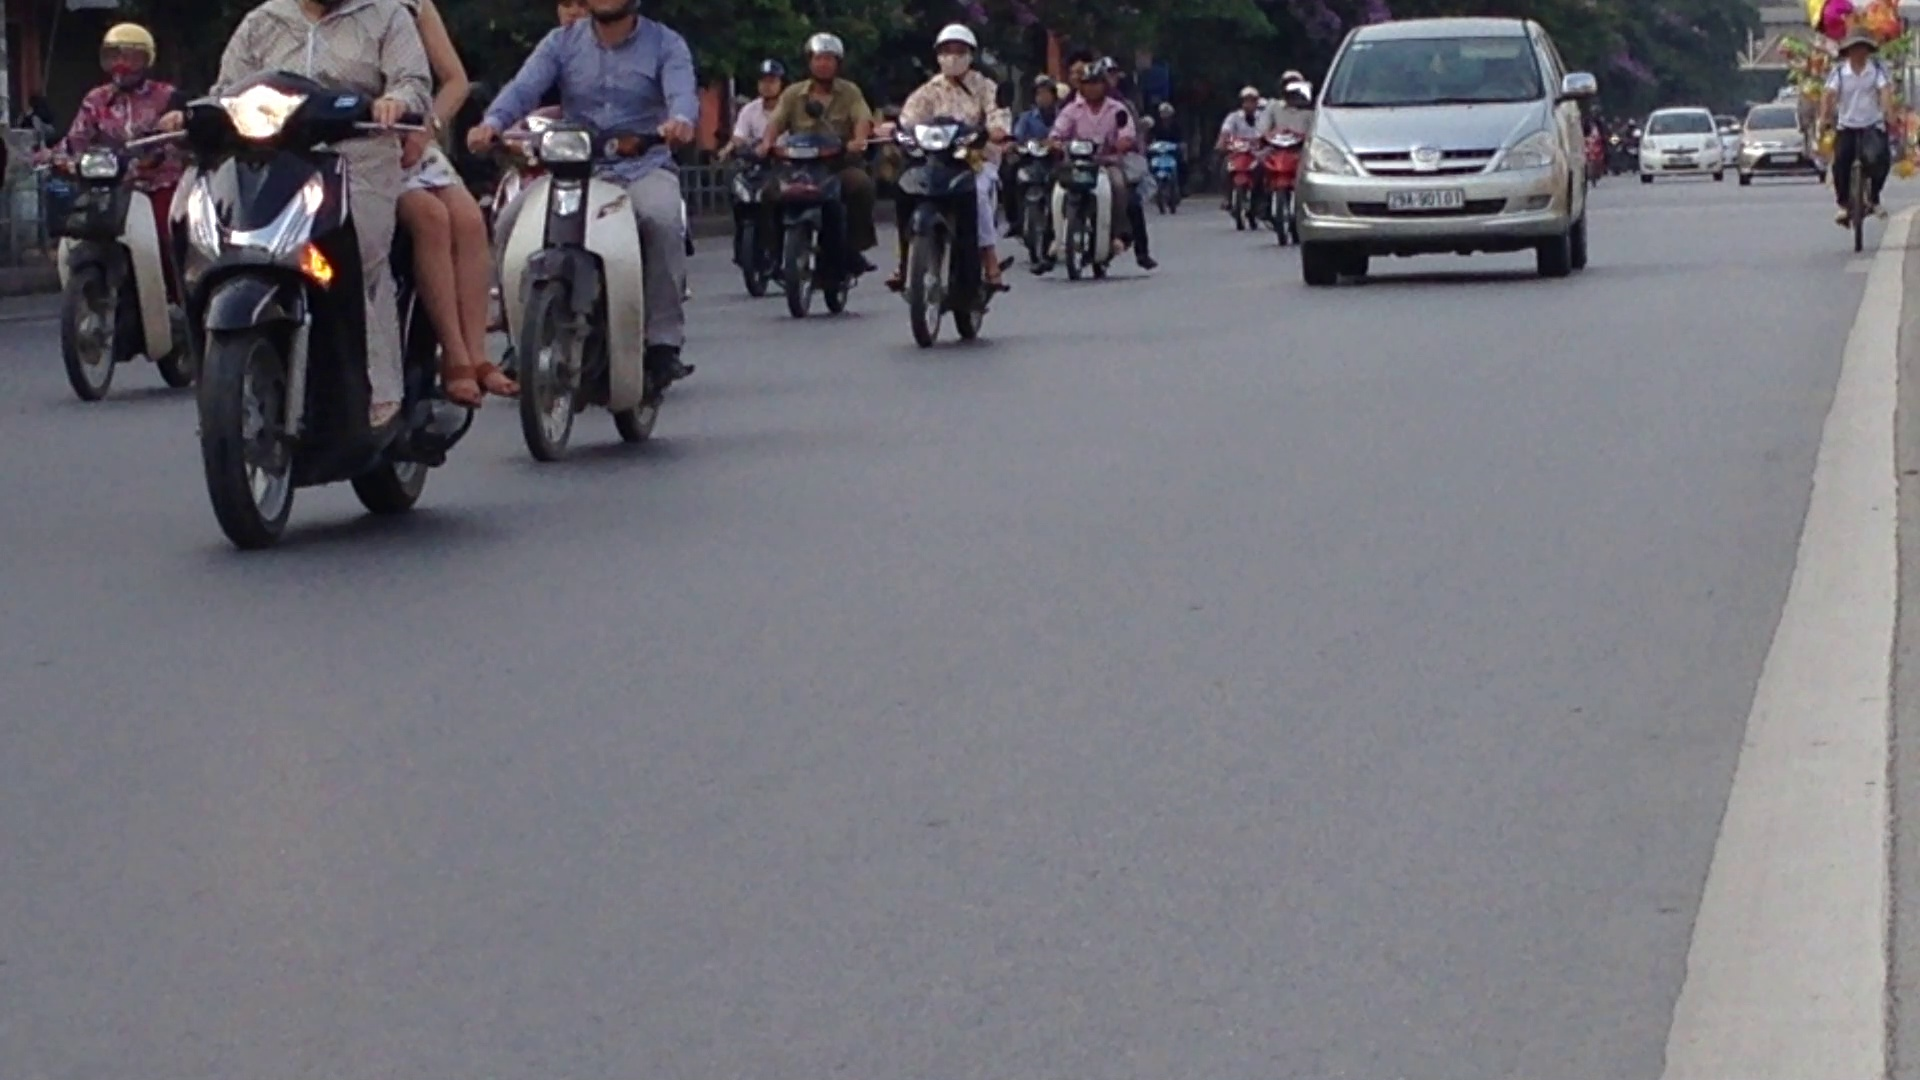vehicle-plate: (1383, 183, 1473, 213)
